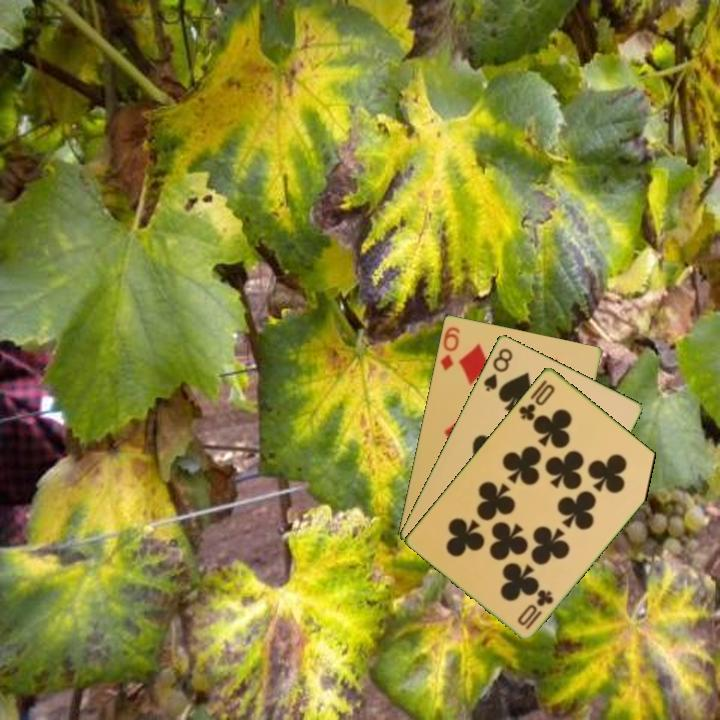10c: (514, 585, 557, 632), (515, 380, 558, 423)
6d: (436, 323, 463, 373)
8s: (480, 344, 515, 394)
